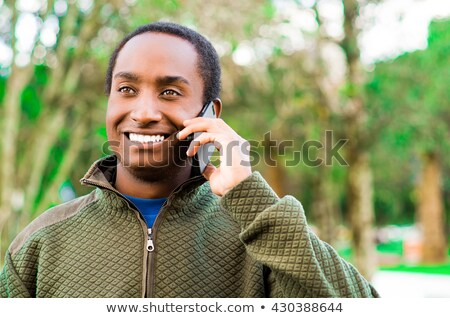phone: (190, 99, 227, 183)
talk: (105, 66, 244, 193)
